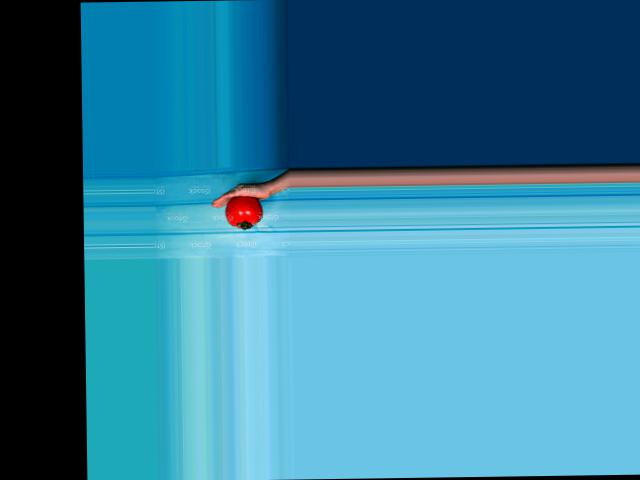tomato: (224, 195, 261, 229)
